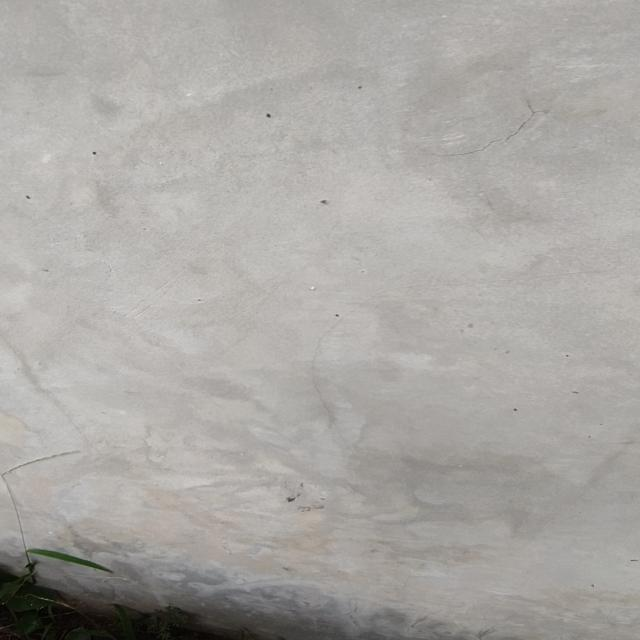Crack: (423, 97, 554, 167)
